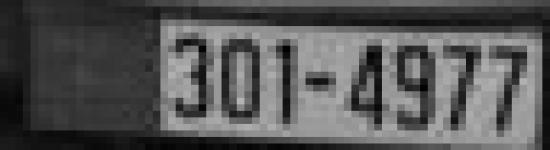-: (305, 68, 338, 97)
0: (217, 33, 267, 122)
1: (266, 36, 302, 128)
3: (168, 31, 217, 124)
4: (347, 36, 392, 133)
7: (489, 36, 534, 142), (443, 38, 486, 136)
9: (394, 35, 440, 138)
